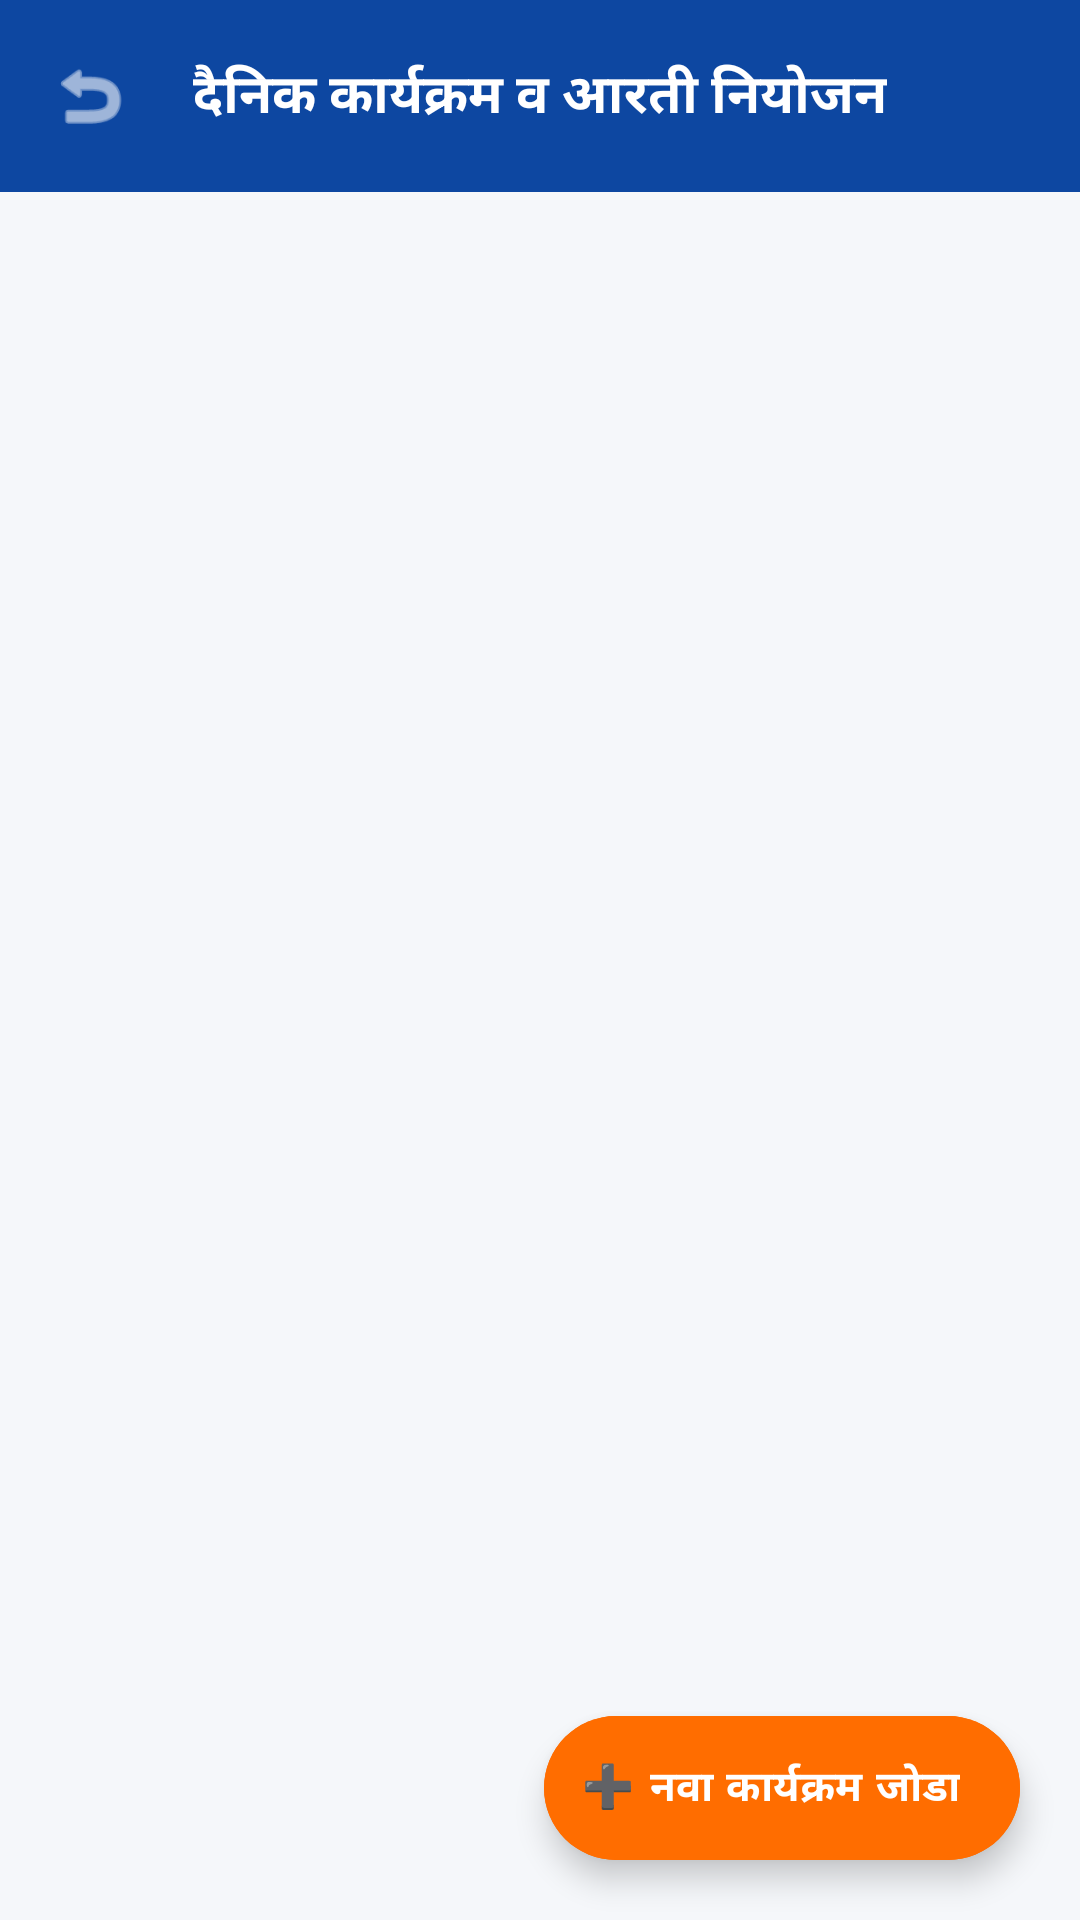

Named icons in this screenshot (1080px x 1920px) and their centers, (x=x, y=y):
revert: (x=91, y=96)
